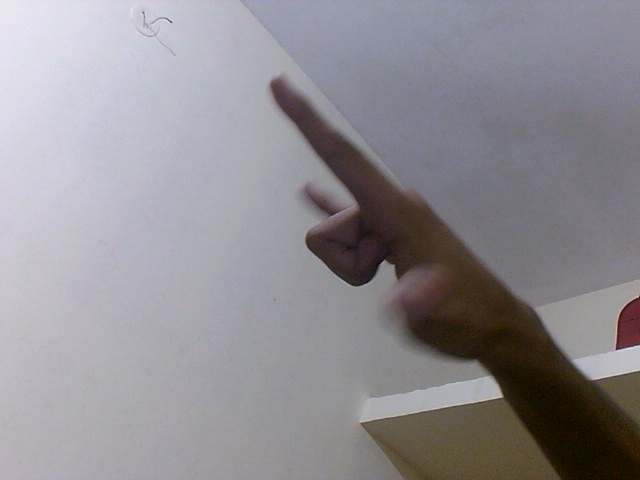hand: (266, 68, 540, 369)
